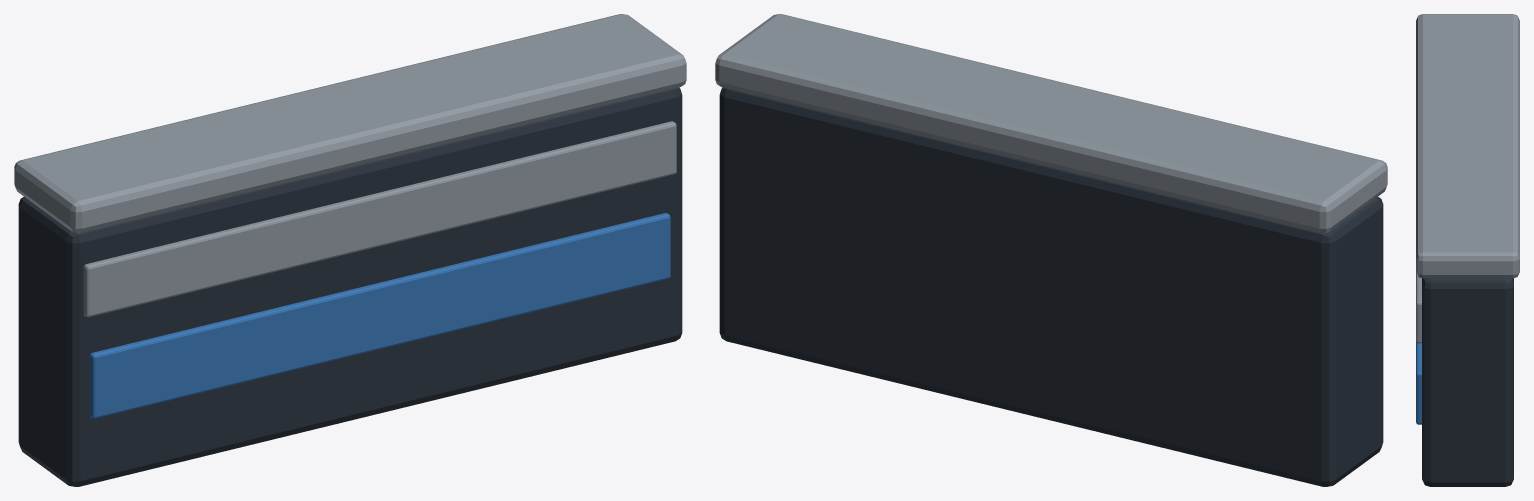
The model's file is rail.glb.
3 views of the same model, side by side, from view 1: azimuth 30°, elevation 25°; view 2: azimuth 150°, elevation 25°; view 3: azimuth 270°, elevation 25° (orthographic). The views are drawn at different scales.
Visible parts, largest first — view 1: Rail_body, MESH_Brushed_Metal, Inner_strike_strip; view 2: Rail_body, MESH_Brushed_Metal; view 3: MESH_Brushed_Metal, Rail_body, Inner_strike_strip.
Part boxes in pixels (<box>): Rail_body: <box>18,87,682,486</box>; MESH_Brushed_Metal: <box>14,14,686,317</box>; Inner_strike_strip: <box>89,213,670,418</box>; Rail_body: <box>719,87,1383,486</box>; MESH_Brushed_Metal: <box>715,14,1387,233</box>; MESH_Brushed_Metal: <box>1416,14,1519,343</box>; Rail_body: <box>1422,278,1513,486</box>; Inner_strike_strip: <box>1416,341,1421,424</box>.
Size of the model in its own units: 1 by 0.45 by 0.18.
